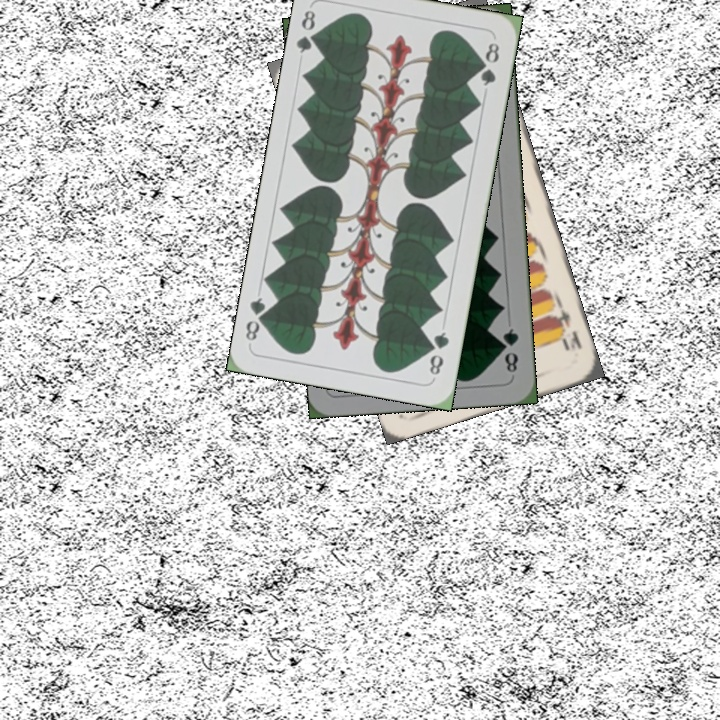E10: (548, 300, 585, 354)
G8: (292, 6, 323, 56), (425, 327, 452, 381), (497, 324, 521, 375)
